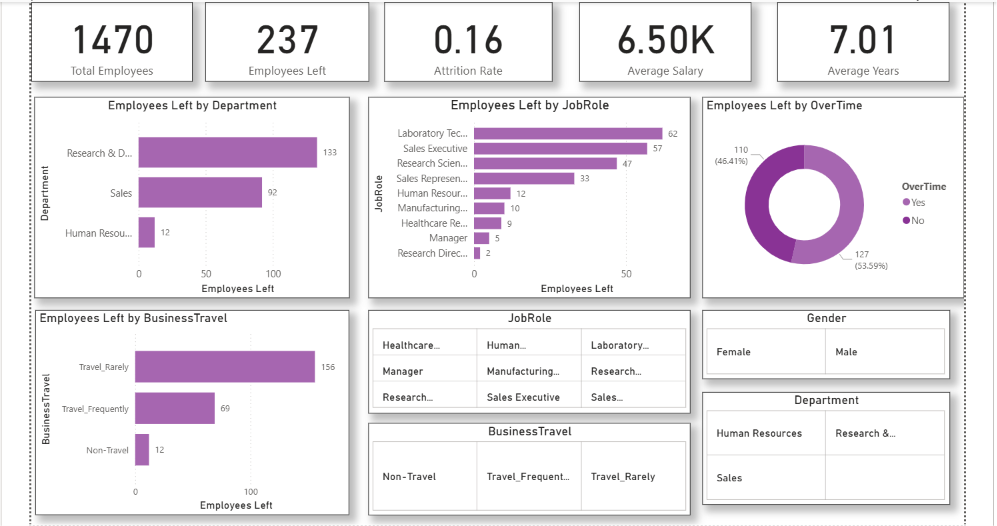

Layout of this report page (visuals, bound fields, positions):
{"tool":"powerbi","page":{"name":"Summary ","canvas":[1280,720],"ordinal":0},"visuals":[{"type":"card","fields":{"Values":["WA_Fn-UseC_-HR-Employee-Attrition.Total Employees"]},"box":[0,0,221.1,109.6],"z":0},{"type":"card","fields":{"Values":["WA_Fn-UseC_-HR-Employee-Attrition.Employees Left"]},"box":[238.1,0,224.9,109.6],"z":1000},{"type":"card","fields":{"Values":["WA_Fn-UseC_-HR-Employee-Attrition.Attrition Rate"]},"box":[483.8,0,230.6,109.6],"z":2000},{"type":"card","fields":{"Values":["WA_Fn-UseC_-HR-Employee-Attrition.Average Salary"]},"box":[752.1,0,236.2,109.6],"z":3000},{"type":"card","fields":{"Values":["WA_Fn-UseC_-HR-Employee-Attrition.Average Years"]},"box":[1024.3,0,236.2,109.6],"z":4000},{"type":"clusteredBarChart","fields":{"Category":["WA_Fn-UseC_-HR-Employee-Attrition.Department"],"Y":["WA_Fn-UseC_-HR-Employee-Attrition.Employees Left"]},"box":[3.8,130.4,432.8,275.9],"z":5000},{"type":"barChart","fields":{"Category":["WA_Fn-UseC_-HR-Employee-Attrition.JobRole"],"Y":["WA_Fn-UseC_-HR-Employee-Attrition.Employees Left"]},"box":[463,130.4,442.2,275.9],"z":6000},{"type":"donutChart","fields":{"Y":["WA_Fn-UseC_-HR-Employee-Attrition.Employees Left"],"Category":["WA_Fn-UseC_-HR-Employee-Attrition.OverTime"]},"box":[920.3,130.4,359.1,275.9],"z":7000},{"type":"clusteredBarChart","fields":{"Y":["WA_Fn-UseC_-HR-Employee-Attrition.Employees Left"],"Category":["WA_Fn-UseC_-HR-Employee-Attrition.BusinessTravel"]},"box":[5.7,423.3,430.9,281.6],"z":8000},{"type":"advancedSlicerVisual","fields":{"Values":["WA_Fn-UseC_-HR-Employee-Attrition.Department"]},"box":[920.3,534.8,340.2,155],"z":9000},{"type":"advancedSlicerVisual","fields":{"Values":["WA_Fn-UseC_-HR-Employee-Attrition.Gender"]},"box":[920.3,423.3,340.2,94.5],"z":10000},{"type":"advancedSlicerVisual","fields":{"Values":["WA_Fn-UseC_-HR-Employee-Attrition.JobRole"]},"box":[463,423.3,442.2,141.7],"z":11000},{"type":"advancedSlicerVisual","fields":{"Values":["WA_Fn-UseC_-HR-Employee-Attrition.BusinessTravel"]},"box":[463,578.3,442.2,126.6],"z":12000}]}

Visuals, with their boxes in screenshot pixels (x1, y1, x2, y2):
card - WA_Fn-UseC_-HR-Employee-Attrition.Total Employees: x1=34, y1=3, x2=193, y2=82
card - WA_Fn-UseC_-HR-Employee-Attrition.Employees Left: x1=206, y1=3, x2=368, y2=82
card - WA_Fn-UseC_-HR-Employee-Attrition.Attrition Rate: x1=383, y1=3, x2=549, y2=82
card - WA_Fn-UseC_-HR-Employee-Attrition.Average Salary: x1=577, y1=3, x2=747, y2=82
card - WA_Fn-UseC_-HR-Employee-Attrition.Average Years: x1=773, y1=3, x2=944, y2=82
clusteredBarChart - WA_Fn-UseC_-HR-Employee-Attrition.Department x WA_Fn-UseC_-HR-Employee-Attrition.Employees Left: x1=36, y1=97, x2=349, y2=296
barChart - WA_Fn-UseC_-HR-Employee-Attrition.JobRole x WA_Fn-UseC_-HR-Employee-Attrition.Employees Left: x1=368, y1=97, x2=687, y2=296
donutChart - WA_Fn-UseC_-HR-Employee-Attrition.Employees Left x WA_Fn-UseC_-HR-Employee-Attrition.OverTime: x1=698, y1=97, x2=957, y2=296
clusteredBarChart - WA_Fn-UseC_-HR-Employee-Attrition.Employees Left x WA_Fn-UseC_-HR-Employee-Attrition.BusinessTravel: x1=38, y1=308, x2=349, y2=511
advancedSlicerVisual - WA_Fn-UseC_-HR-Employee-Attrition.Department: x1=698, y1=389, x2=944, y2=501
advancedSlicerVisual - WA_Fn-UseC_-HR-Employee-Attrition.Gender: x1=698, y1=308, x2=944, y2=376
advancedSlicerVisual - WA_Fn-UseC_-HR-Employee-Attrition.JobRole: x1=368, y1=308, x2=687, y2=410
advancedSlicerVisual - WA_Fn-UseC_-HR-Employee-Attrition.BusinessTravel: x1=368, y1=420, x2=687, y2=511
